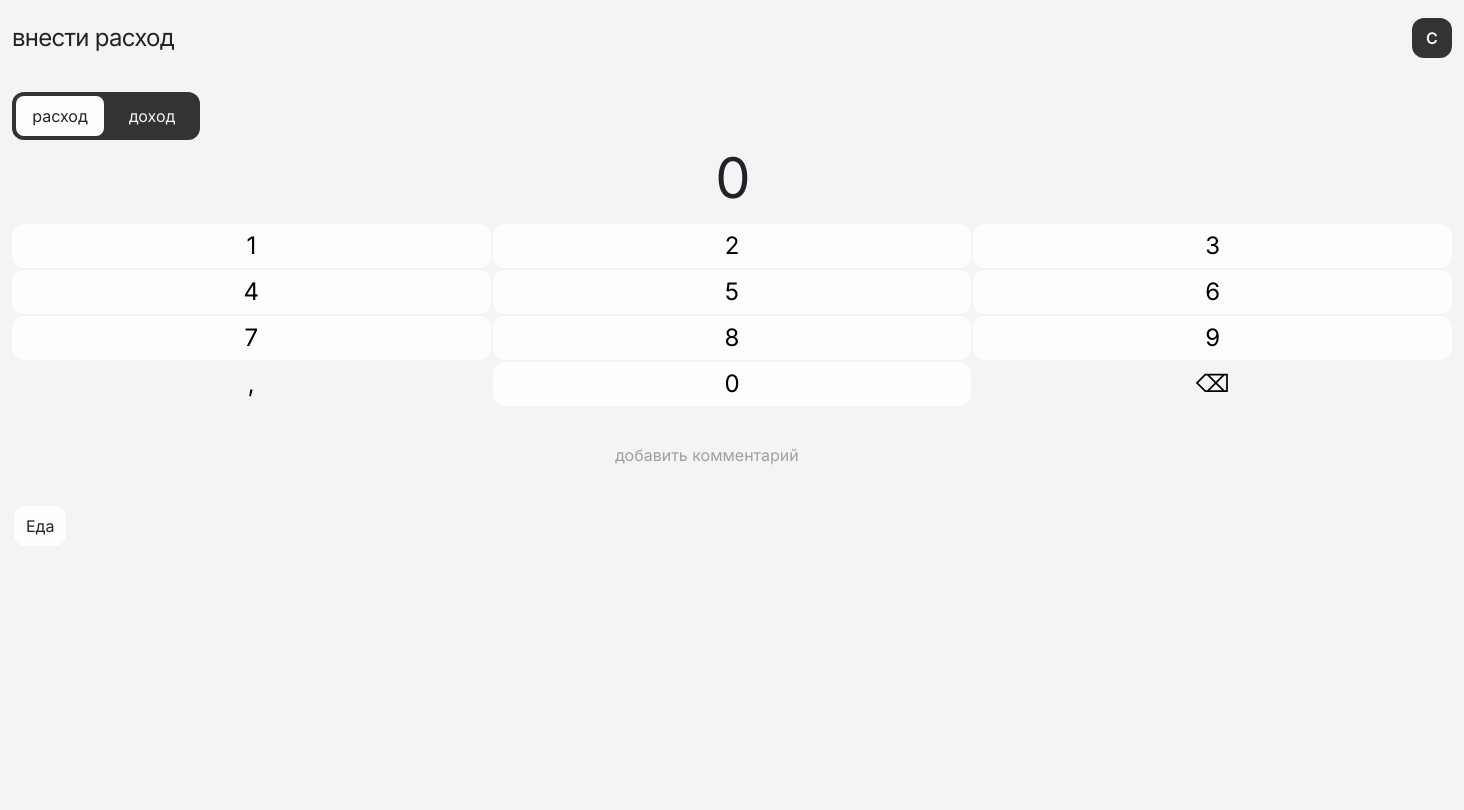
it: CreateTransaction local save feedback › keeps the draft after a failed save and allows a retry
Type "кофе" into the field with placeholder "добавить комментарий" at (732, 455), box [614,434,850,476]
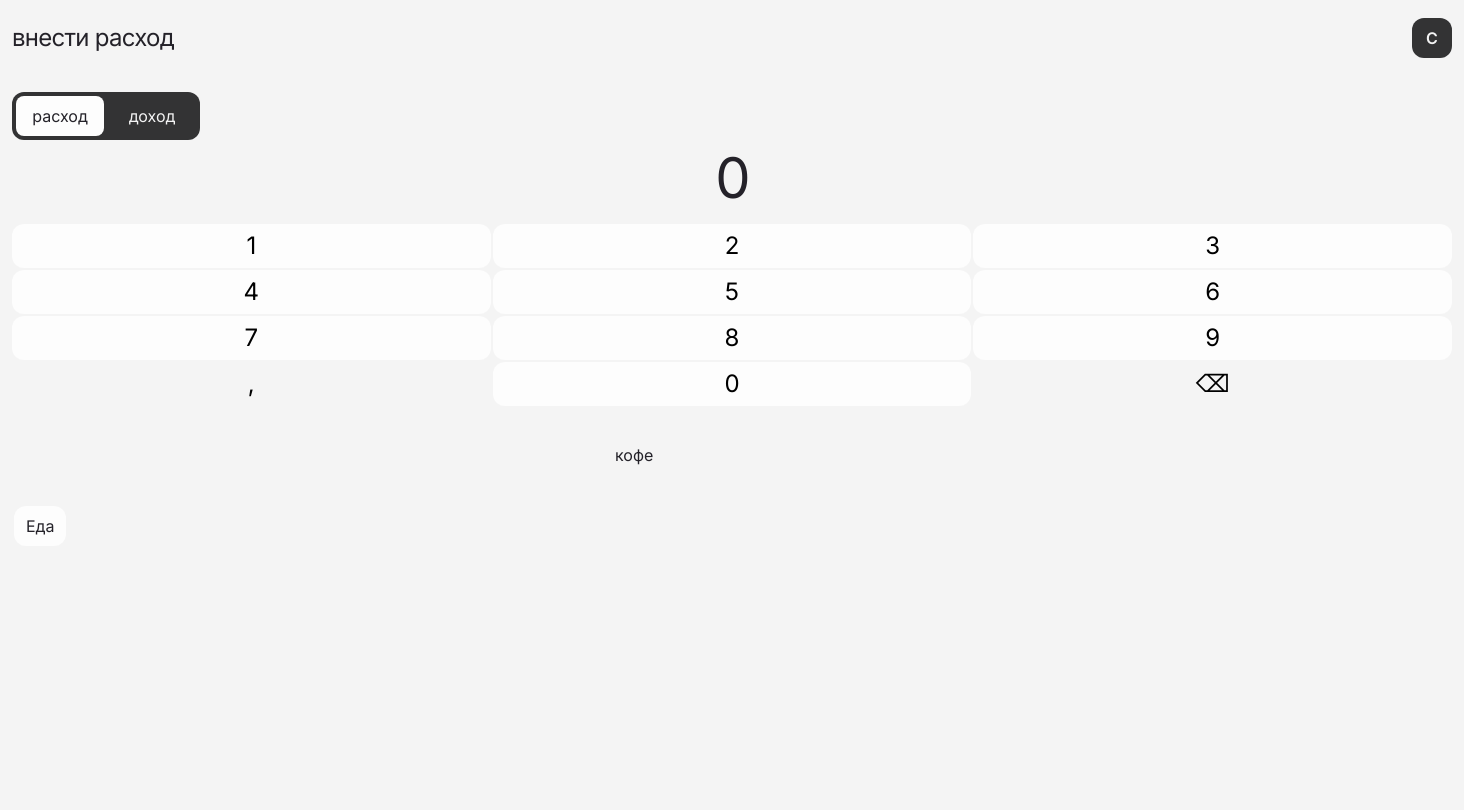
Click the button "5" at (732, 292), box [493,270,971,314]
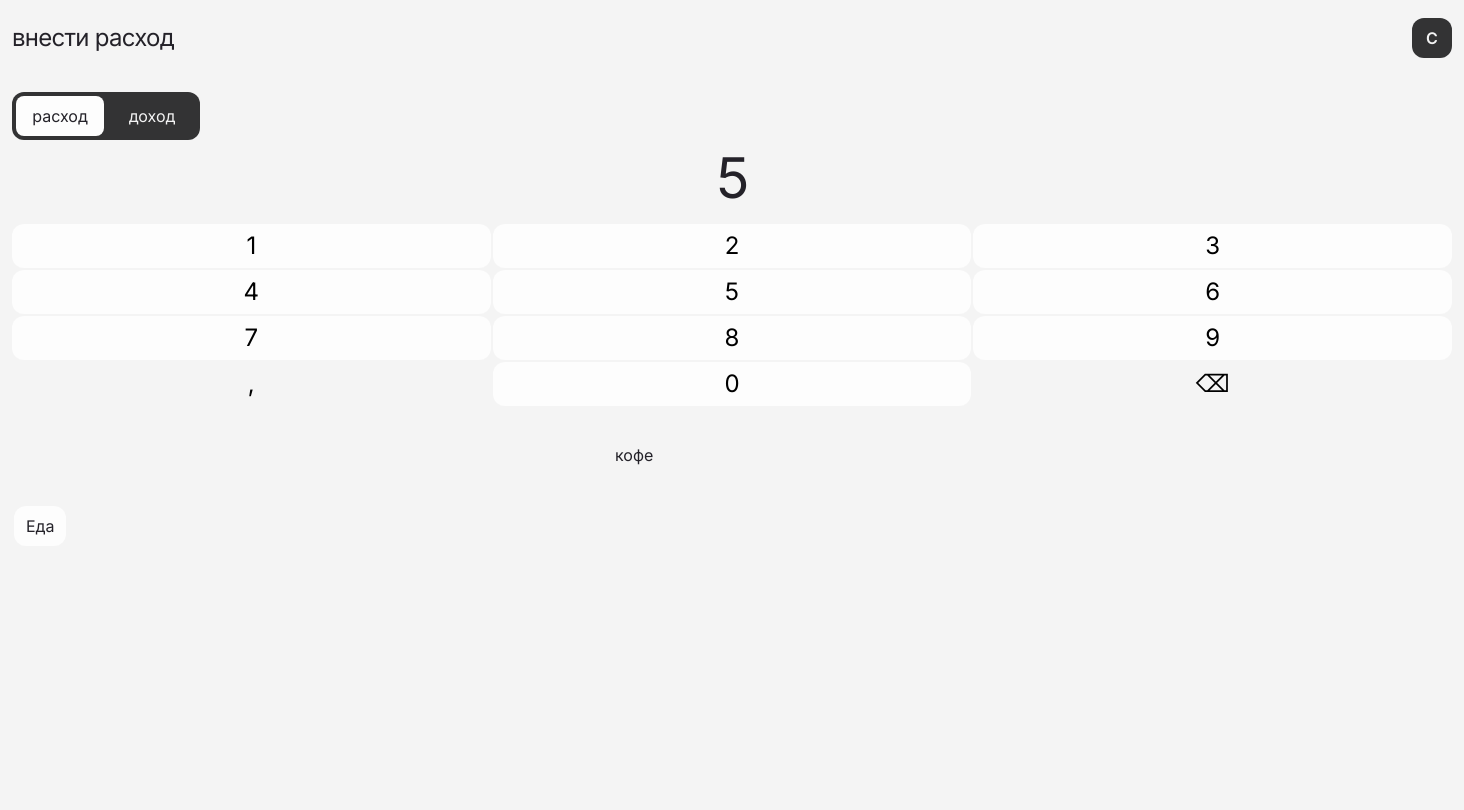
Click the button "Еда" at (40, 526), box [14,506,66,546]
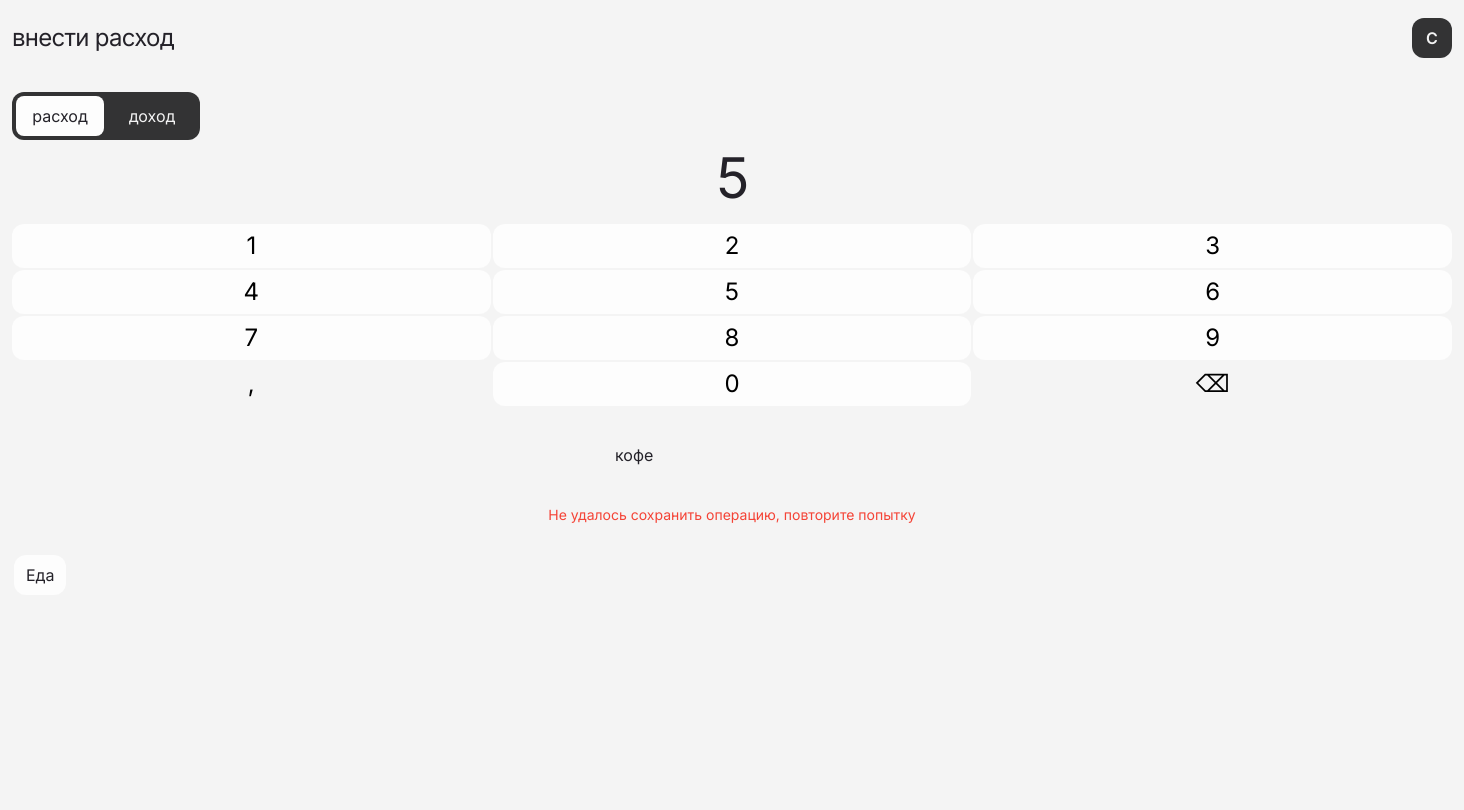
Result: the message "Не удалось сохранить операцию, повторите попытку" is shown at [548,506,916,523]
Click the button "Еда" at (40, 575), box [14,555,66,595]
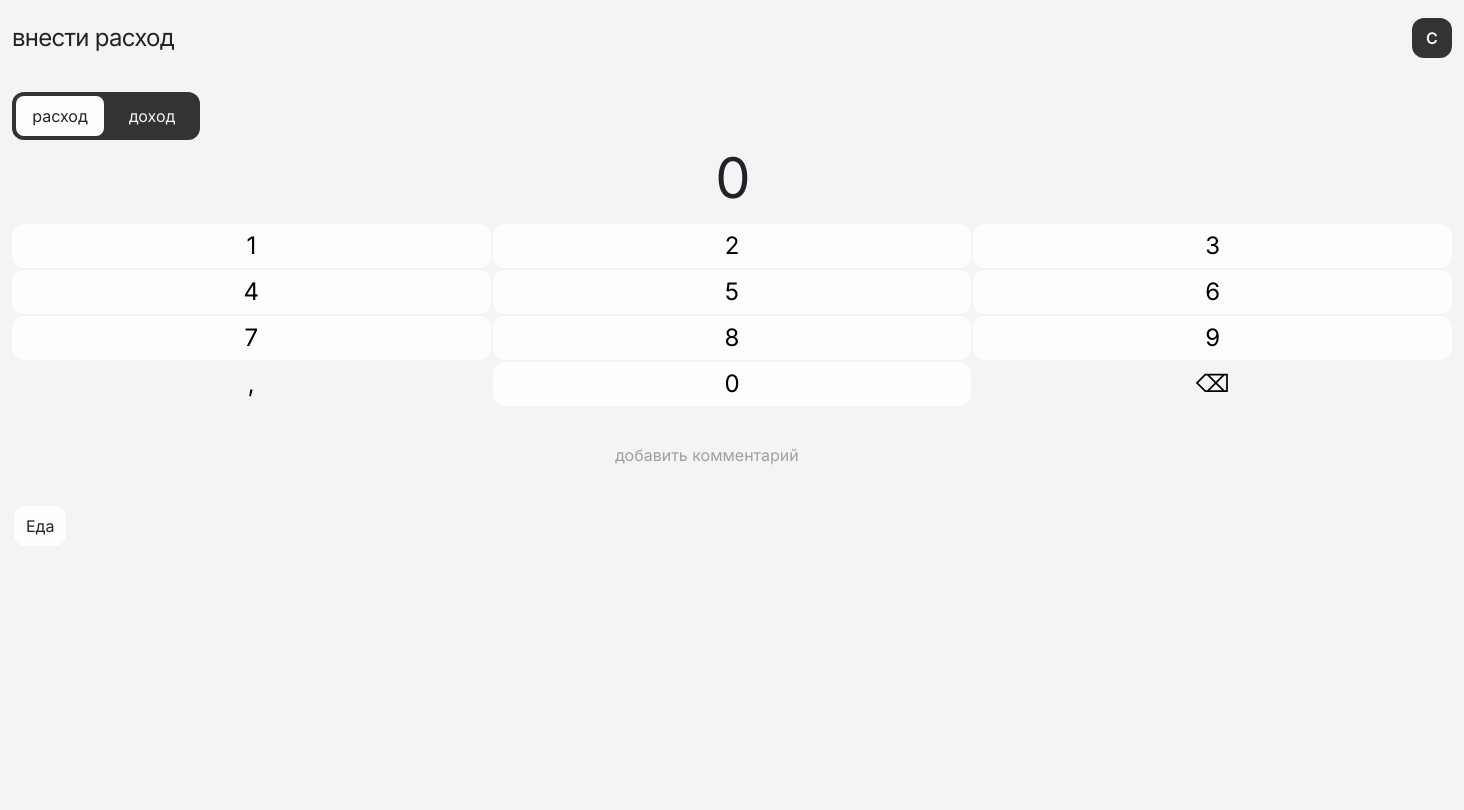
Result: the message "Не удалось сохранить операцию, повторите попытку" is gone
Result: the field with placeholder "добавить комментарий" is empty at [614,434,850,476]
